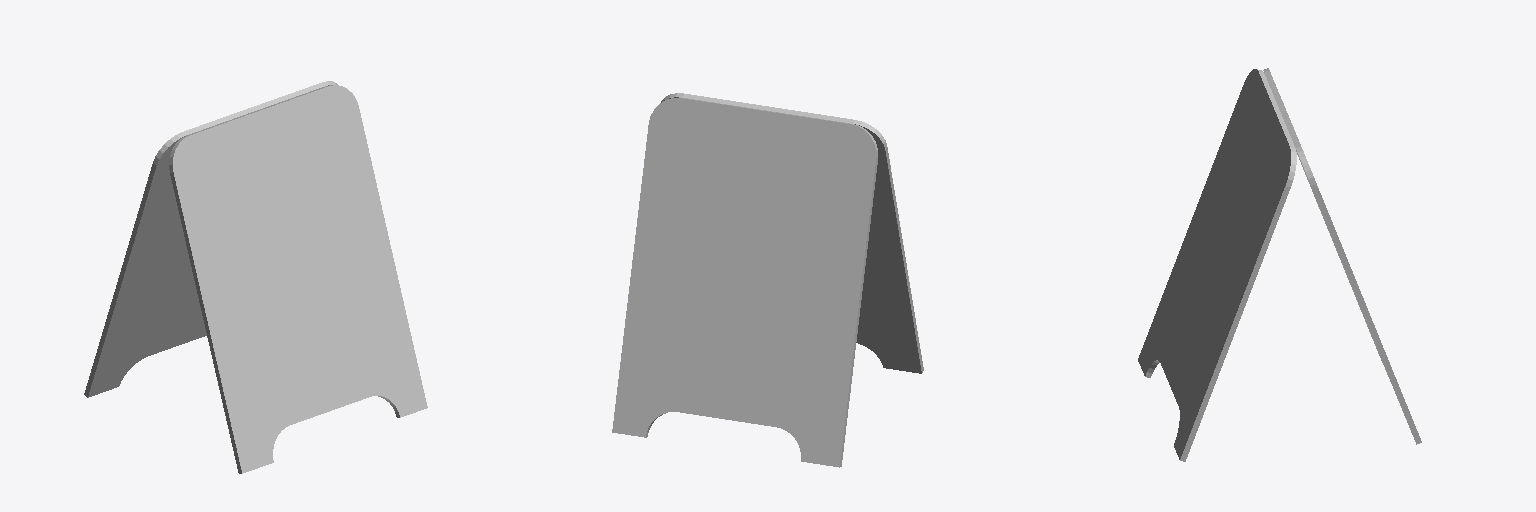
3 views of the same model, side by side, from view 1: azimuth 30°, elevation 25°; view 2: azimuth 150°, elevation 25°; view 3: azimuth 270°, elevation 25° (orthographic).
Parts seen in each view (by area): view 1: A_Frame_Leasing_47; view 2: A_Frame_Leasing_47; view 3: A_Frame_Leasing_47.
Boxes of the visible parts, <box> form: A_Frame_Leasing_47: <box>84,81,427,473</box>; A_Frame_Leasing_47: <box>612,93,923,467</box>; A_Frame_Leasing_47: <box>1138,68,1421,461</box>.
Size of the model in its own units: 0.6967 by 0.8039 by 0.7046.